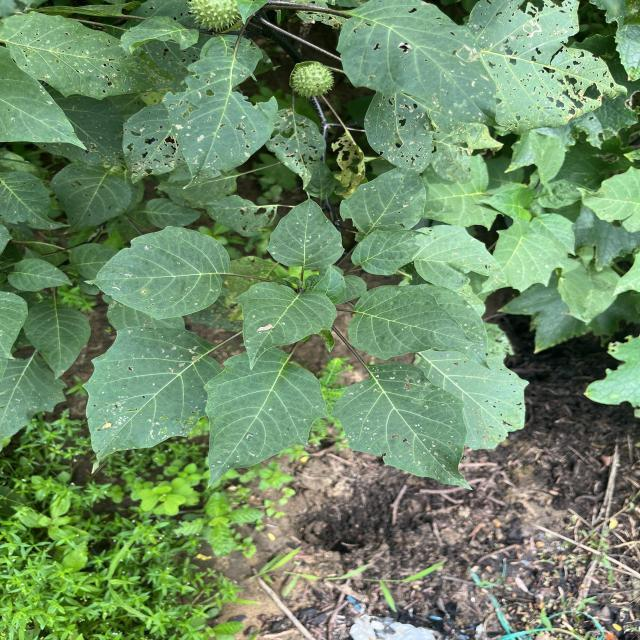Datura metal linn: (327, 357, 477, 492), (200, 346, 330, 492), (80, 326, 206, 476), (82, 222, 235, 322), (346, 282, 484, 362), (230, 279, 340, 371), (264, 190, 348, 272)
